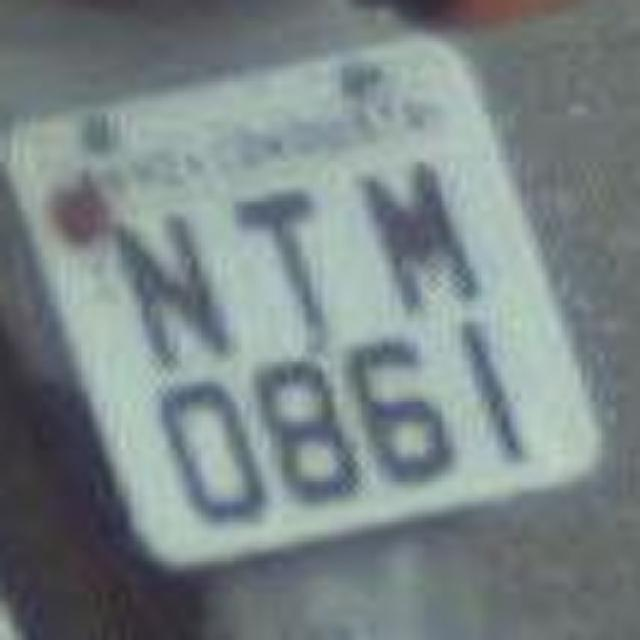0: (148, 364, 280, 536)
1: (448, 316, 528, 464)
6: (336, 324, 452, 496)
8: (248, 340, 360, 512)
N: (348, 149, 484, 316), (111, 195, 224, 380)
T: (240, 172, 340, 348)
